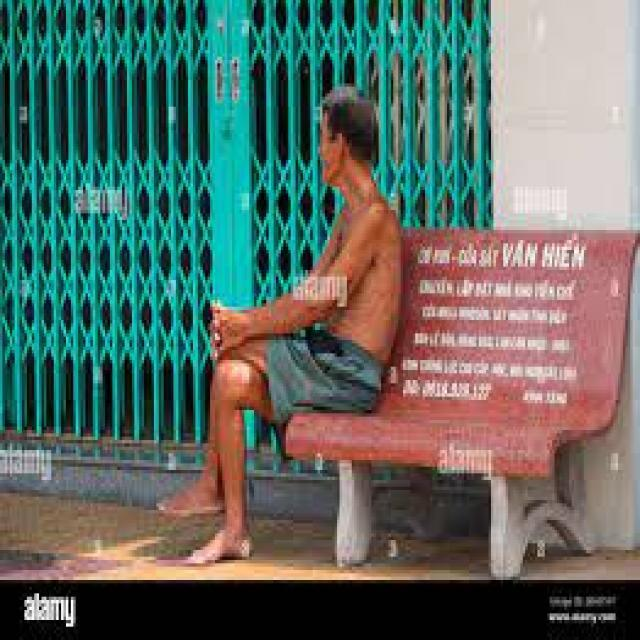No_BreathingApparatus: (314, 125, 346, 190)
No_Shoe: (187, 520, 254, 568), (153, 478, 222, 522)
